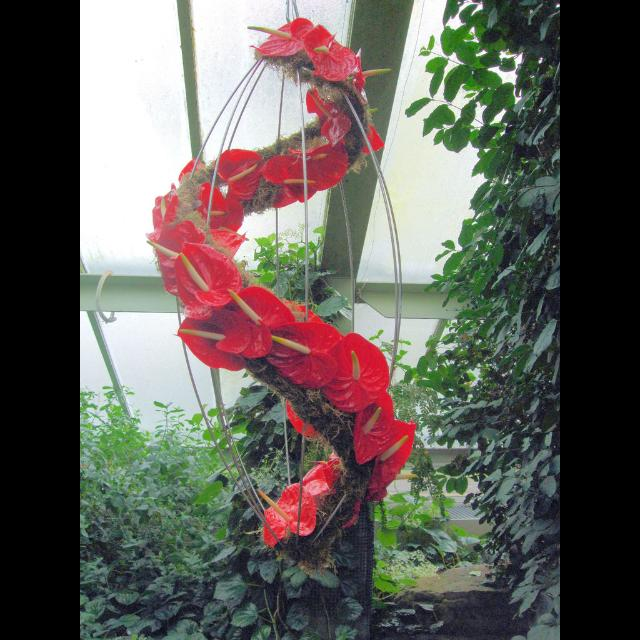Flower: (145, 55, 417, 545), (258, 18, 362, 66)
